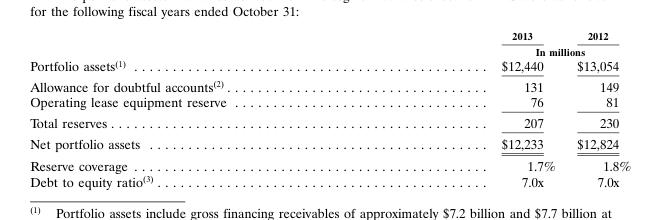table: (29, 29, 630, 189)
table column: (29, 29, 365, 189), (365, 29, 565, 189), (565, 29, 630, 189)
table column header: (29, 29, 630, 57)
table row: (29, 132, 630, 154), (29, 112, 630, 132), (29, 93, 630, 112), (29, 154, 630, 173), (29, 57, 630, 75), (29, 75, 630, 93), (29, 173, 630, 189), (29, 29, 630, 43), (29, 43, 630, 57)
table spanning cell: (365, 43, 630, 57)
